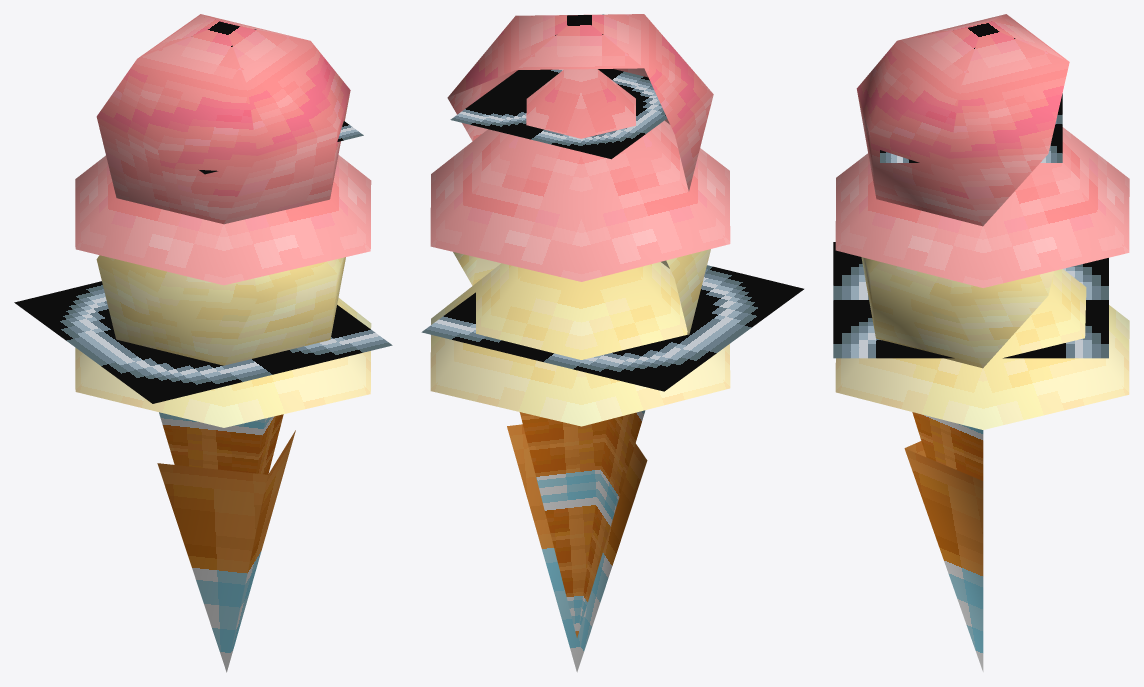
3 views of the same model, side by side, from view 1: azimuth 30°, elevation 25°; view 2: azimuth 150°, elevation 25°; view 3: azimuth 270°, elevation 25° (orthographic).
Parts seen in each view (by area): view 1: 5598u_ice00_hs; view 2: 5598u_ice00_hs; view 3: 5598u_ice00_hs.
Boxes of the visible parts, bbox=[...] form: 5598u_ice00_hs: bbox=[14, 14, 392, 672]; 5598u_ice00_hs: bbox=[421, 14, 803, 672]; 5598u_ice00_hs: bbox=[833, 14, 1129, 671].
Size of the model in its own units: 0.4375 by 0.9199 by 0.3818.
6 materials, 6 textured.
